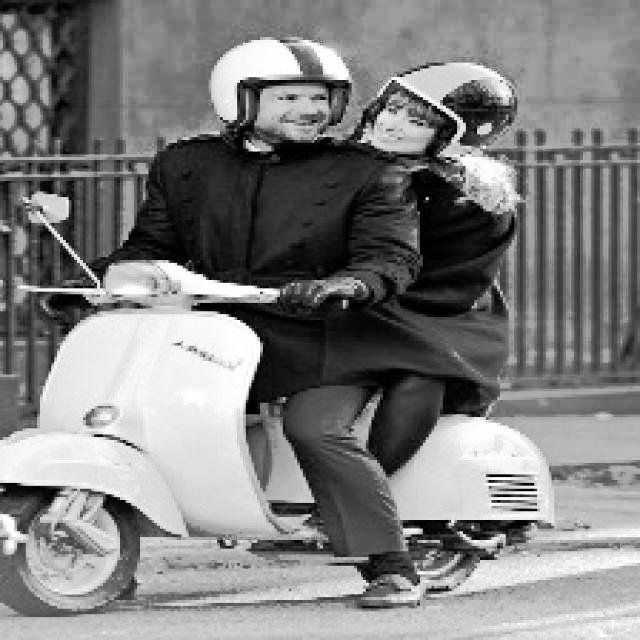Bike: (8, 269, 312, 613)
